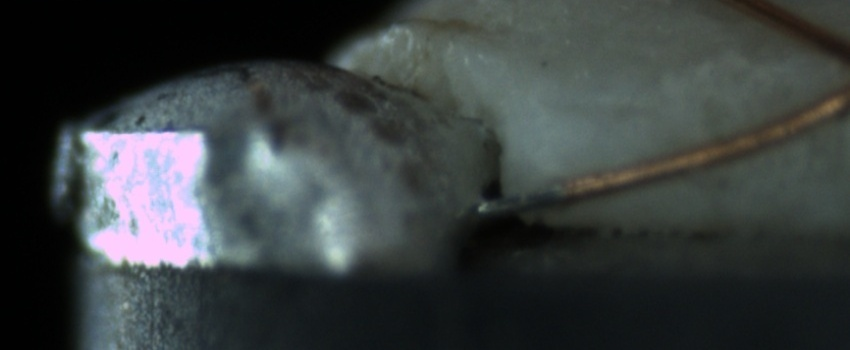DL: (537, 74, 664, 136)
TS: (473, 183, 562, 216)
